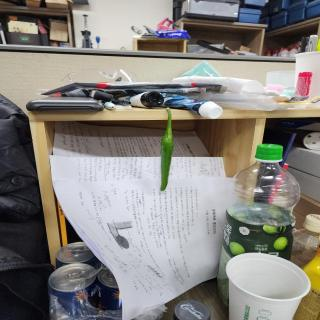Cabai Hijau: (156, 104, 186, 202)
